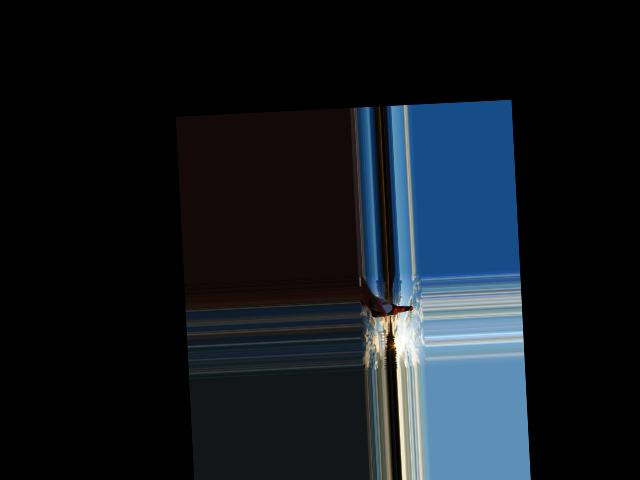beer: (373, 302, 412, 318)
